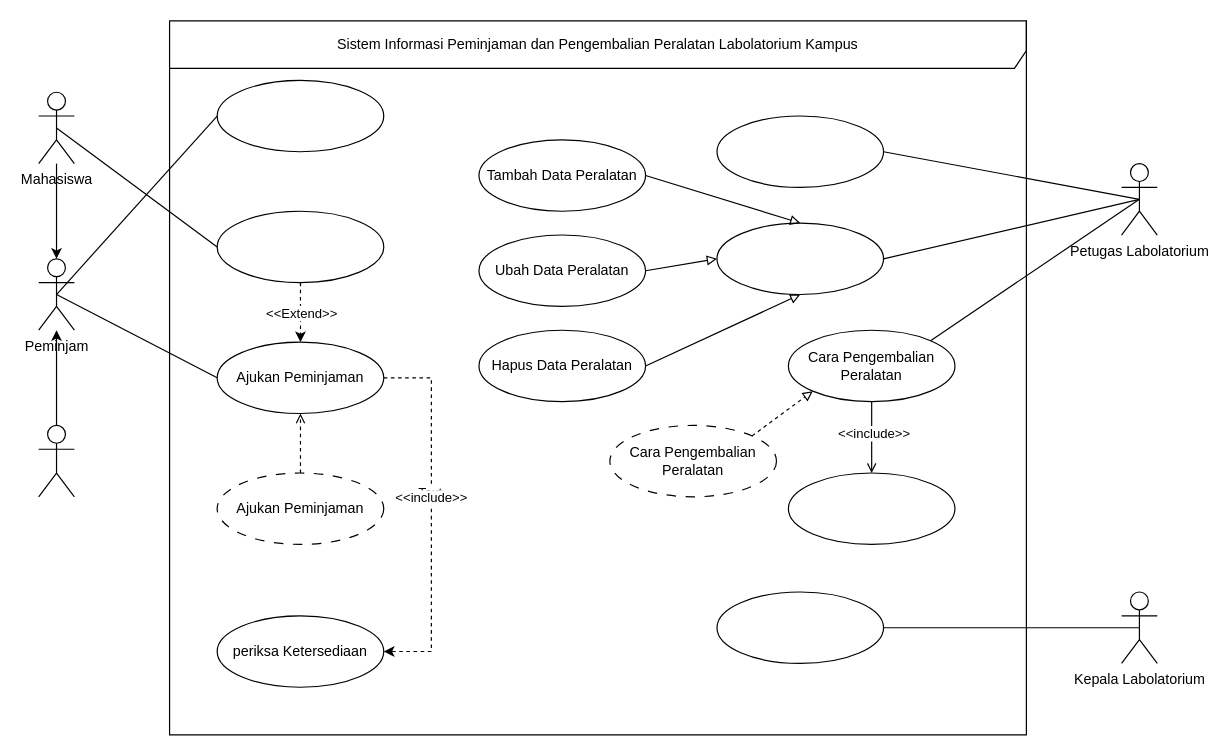
Some shapes in this 1229 by 756 pixel diagram are drawn without their labels. The shapes that lost their labels are listed below. From the top down, each one's centre as x and y in pixels, then its label:
pixel 300 115: Liat Ketersediaan Peralatan
pixel 800 151: Proses Keputusan Peminjaman
pixel 300 246: Cetak Bukti Pengajuan
pixel 800 258: Kelola Data Peralatan
pixel 55 460: Doswn
pixel 871 508: Periksa Kondisi Peralatan
pixel 800 627: Lihat Laporan Peminjaman
